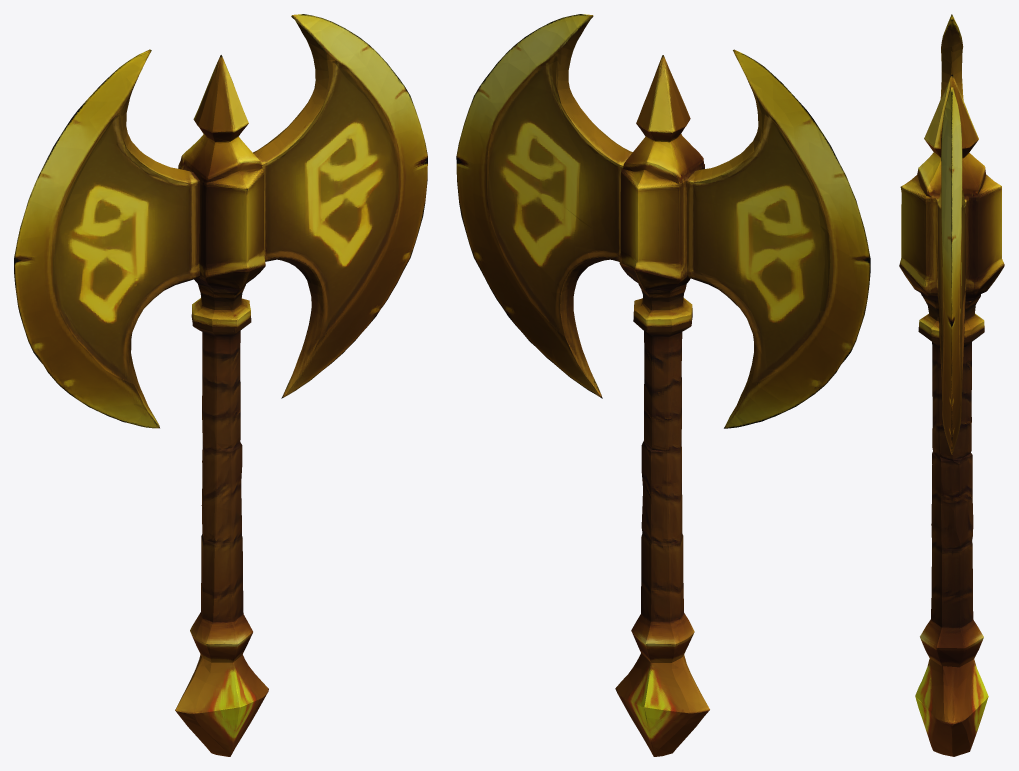
File: axe.fbx
The picture shows the model from 3 angles, left to right: view 1: azimuth 30°, elevation 25°; view 2: azimuth 150°, elevation 25°; view 3: azimuth 270°, elevation 25°; orthographic projection. The views are drawn at different scales.
Parts seen in each view (by area): view 1: world; view 2: world; view 3: world.
Boxes of the visible parts, x1,y1,x2,y2 form: world: [14, 14, 427, 756]; world: [456, 14, 870, 756]; world: [899, 14, 1004, 756].
Bounding box in the file's own units: 181 × 300 × 40.98.
